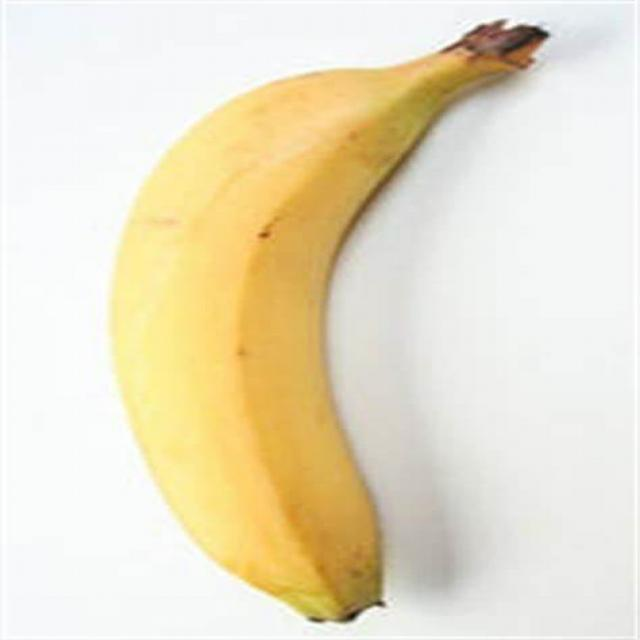Banana: (116, 21, 564, 621)
